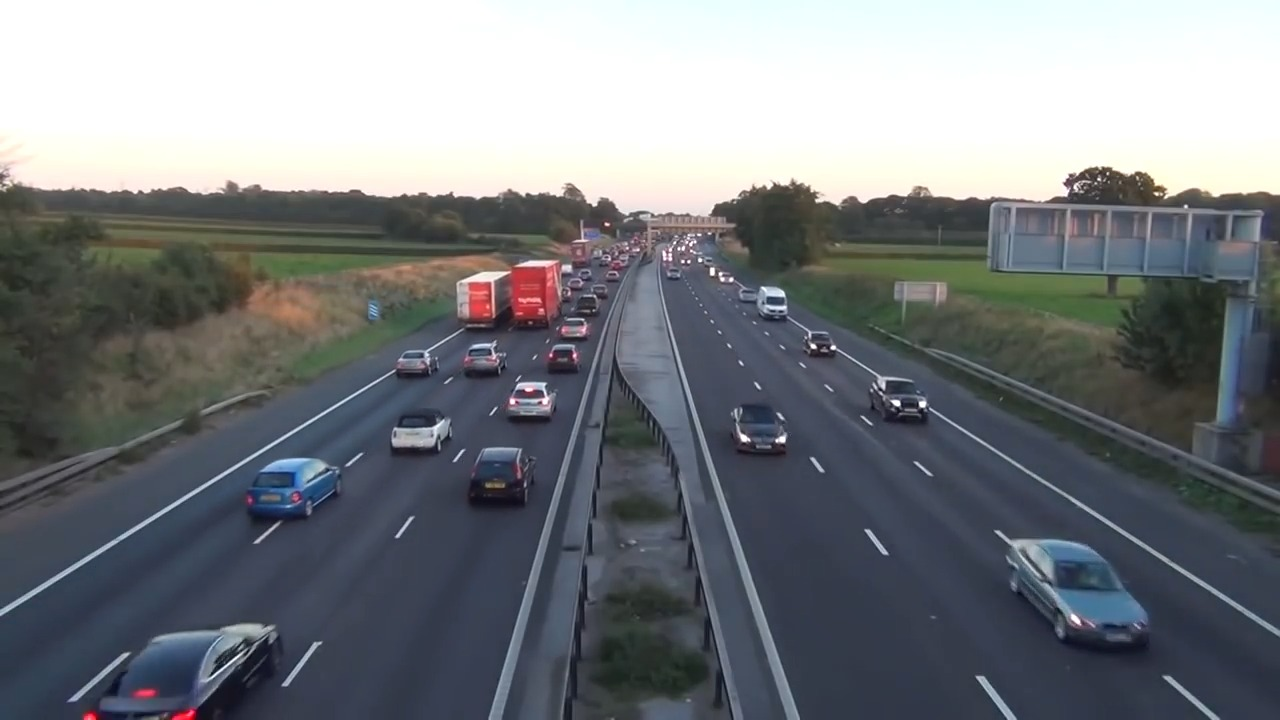truck: (455, 265, 514, 329), (510, 257, 560, 327)
